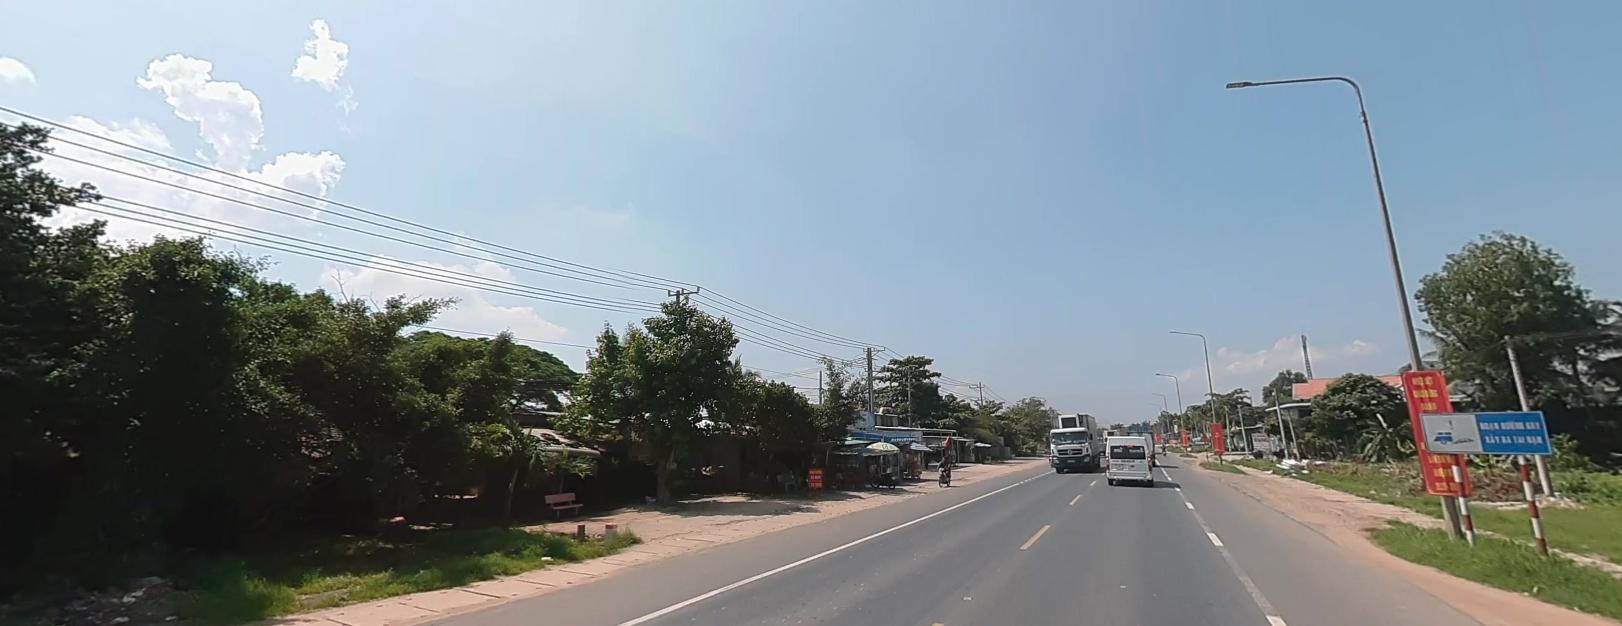Nguy hiem: (1199, 433, 1211, 441)
